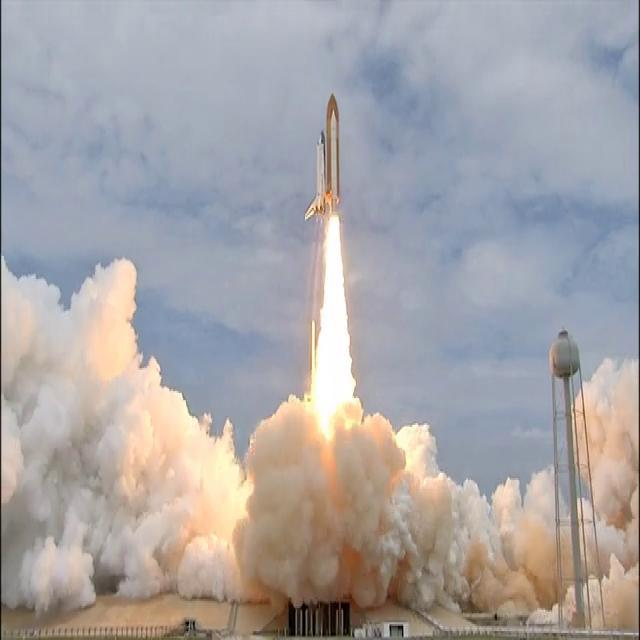fire: (313, 369, 354, 417), (321, 312, 351, 353), (321, 258, 343, 302), (328, 224, 340, 254)
smoke: (6, 354, 76, 450), (172, 540, 267, 610), (75, 294, 133, 398), (5, 542, 90, 610), (60, 456, 106, 549), (4, 460, 55, 540), (372, 420, 422, 500), (204, 443, 248, 533), (84, 403, 135, 470), (2, 270, 43, 348), (134, 370, 172, 452), (258, 526, 308, 588), (354, 504, 397, 574), (112, 482, 158, 544), (253, 437, 287, 519), (600, 546, 634, 626), (161, 446, 196, 520), (314, 520, 346, 590), (600, 484, 638, 538), (406, 508, 434, 580), (45, 293, 73, 363), (285, 466, 315, 528), (438, 487, 466, 552), (317, 432, 343, 501), (470, 493, 502, 548), (469, 556, 504, 606), (606, 368, 636, 426), (278, 411, 310, 464), (351, 432, 376, 497), (507, 492, 537, 546), (505, 556, 536, 608), (614, 424, 640, 483), (136, 543, 164, 593), (534, 536, 554, 606), (97, 266, 130, 308), (434, 558, 462, 605), (96, 542, 130, 580), (177, 407, 200, 458), (351, 577, 388, 604), (590, 435, 614, 472), (536, 472, 551, 531), (583, 388, 603, 421), (405, 586, 436, 606), (424, 436, 437, 479)
